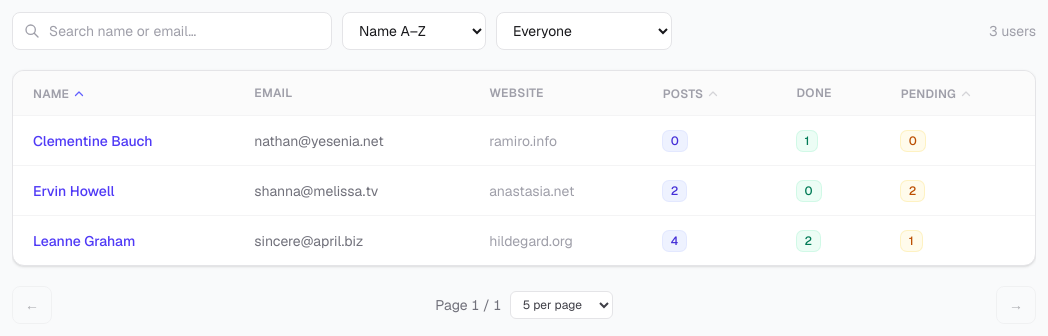
Test: UsersClient › Filter preset › shows only users with no completed todos when filter is "no-completed"
Select "Nothing completed" in the dropdown named "filter list" at [584, 31], box [496,12,672,50]
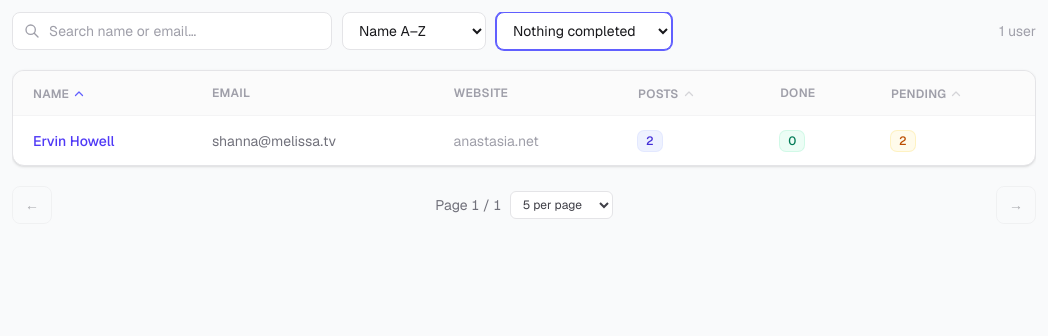
Expected: the link "Ervin Howell" is shown, [33,132,114,150]
Expected: no links "Leanne Graham" are shown
Expected: no links "Clementine Bauch" are shown
